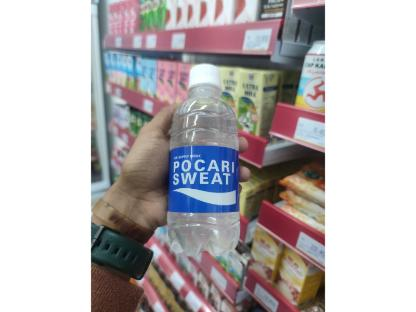Plastic Bottle: (170, 63, 240, 257)
